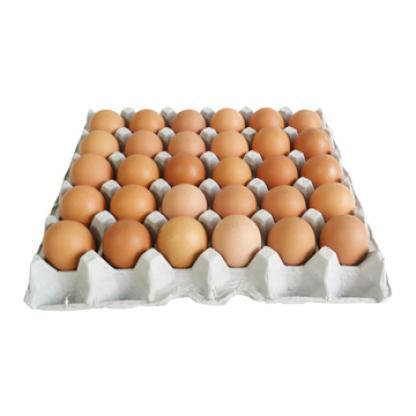egg: (89, 204, 172, 278), (201, 204, 275, 278), (307, 199, 384, 270), (247, 203, 318, 274), (34, 214, 102, 274), (58, 176, 125, 232), (200, 150, 271, 194), (160, 176, 218, 226), (102, 182, 174, 222), (109, 148, 173, 191), (61, 150, 130, 188), (251, 121, 304, 170), (246, 150, 302, 196), (120, 122, 178, 166), (209, 182, 269, 224), (160, 220, 212, 268), (156, 152, 221, 188), (120, 98, 178, 138), (196, 100, 259, 136), (304, 184, 360, 224), (163, 124, 213, 168), (72, 129, 133, 163), (207, 128, 259, 166), (292, 124, 342, 163), (296, 157, 353, 190), (159, 102, 214, 136), (292, 104, 343, 134), (89, 105, 134, 139), (266, 186, 301, 221), (250, 107, 284, 132)
